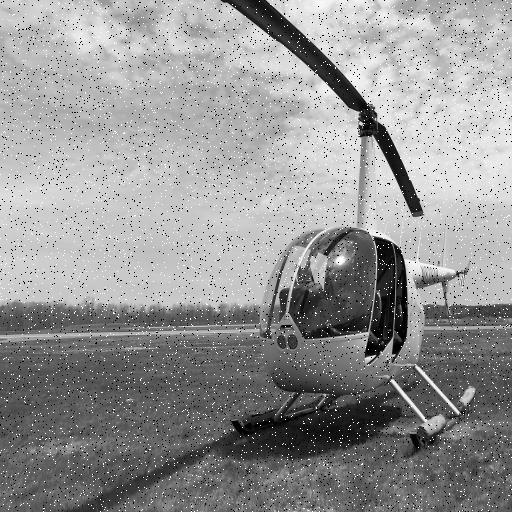helicopter: (117, 1, 489, 465)
